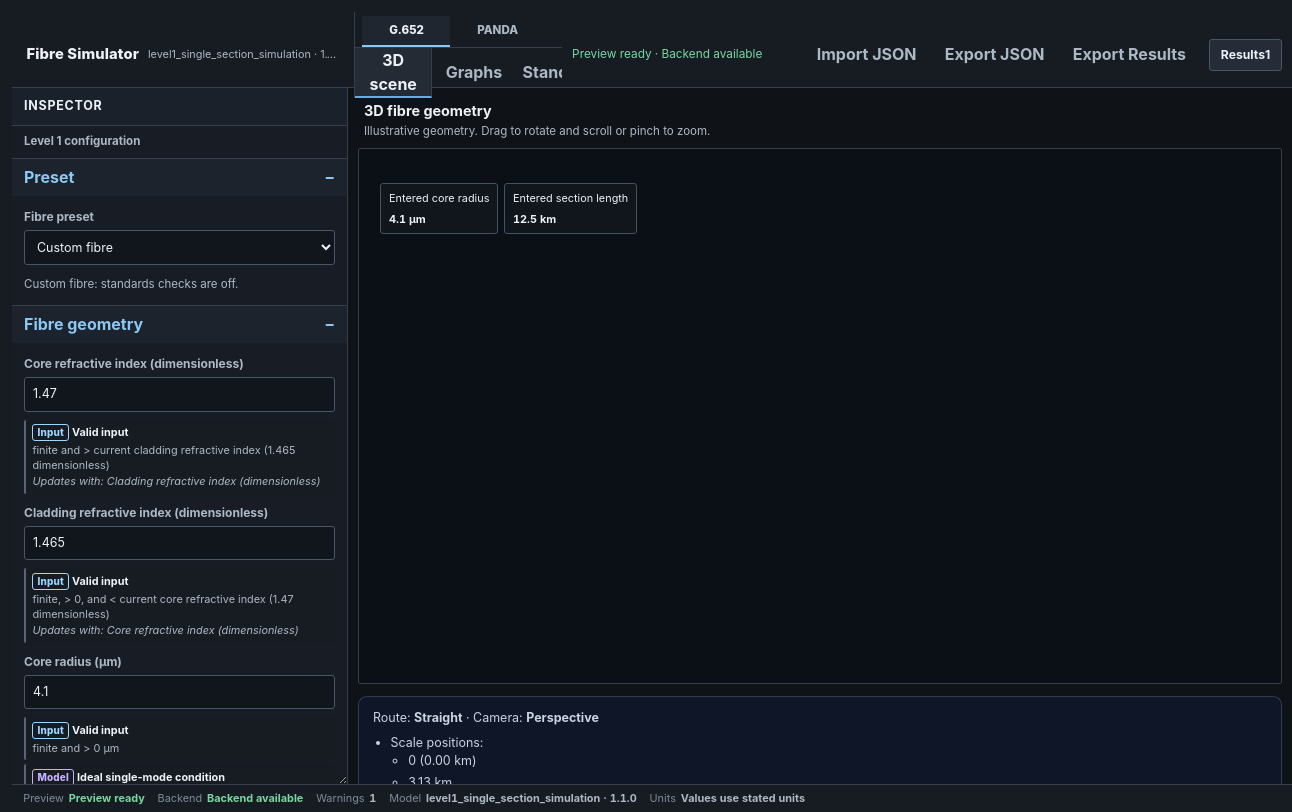
editor UI state › surfaces structured and malformed field-map failures
Step 1. Click the button "PANDA" → click(498, 32), box [454,16,542,47]
Wait 250 ms
(page scrolled)
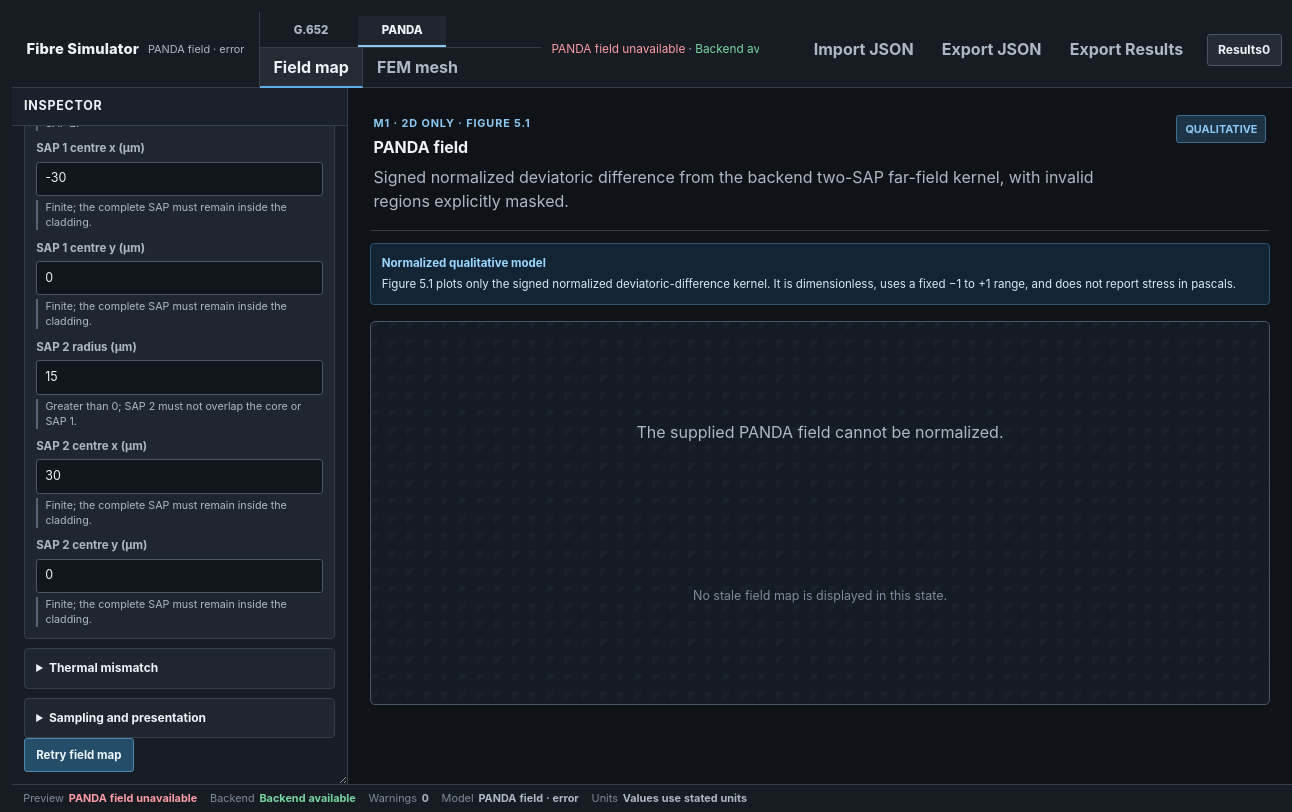
Step 2. Click the button "Retry field map" → click(79, 755), box [24,738,134,772]
Wait 250 ms
(page scrolled)
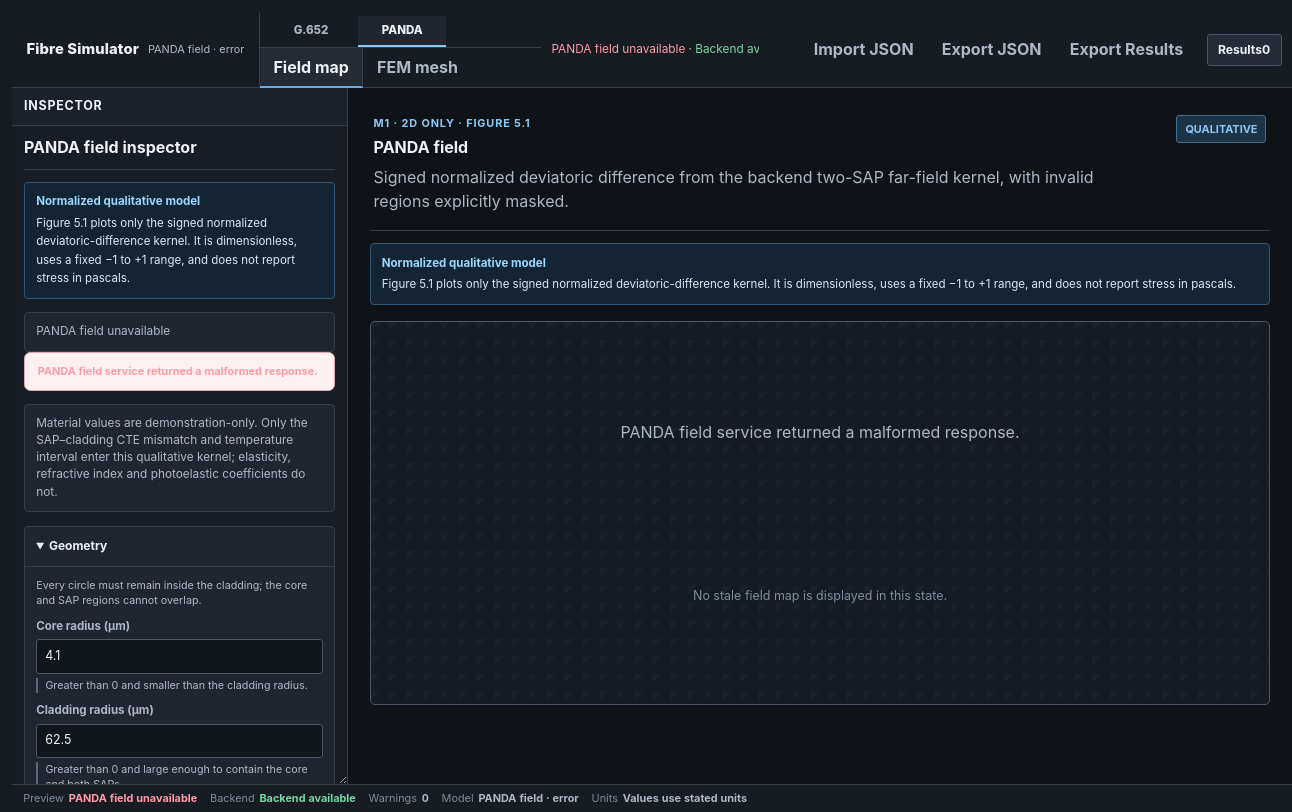
expect the text "PANDA field service returned a malformed response." is shown: met, box [24,352,335,391]
